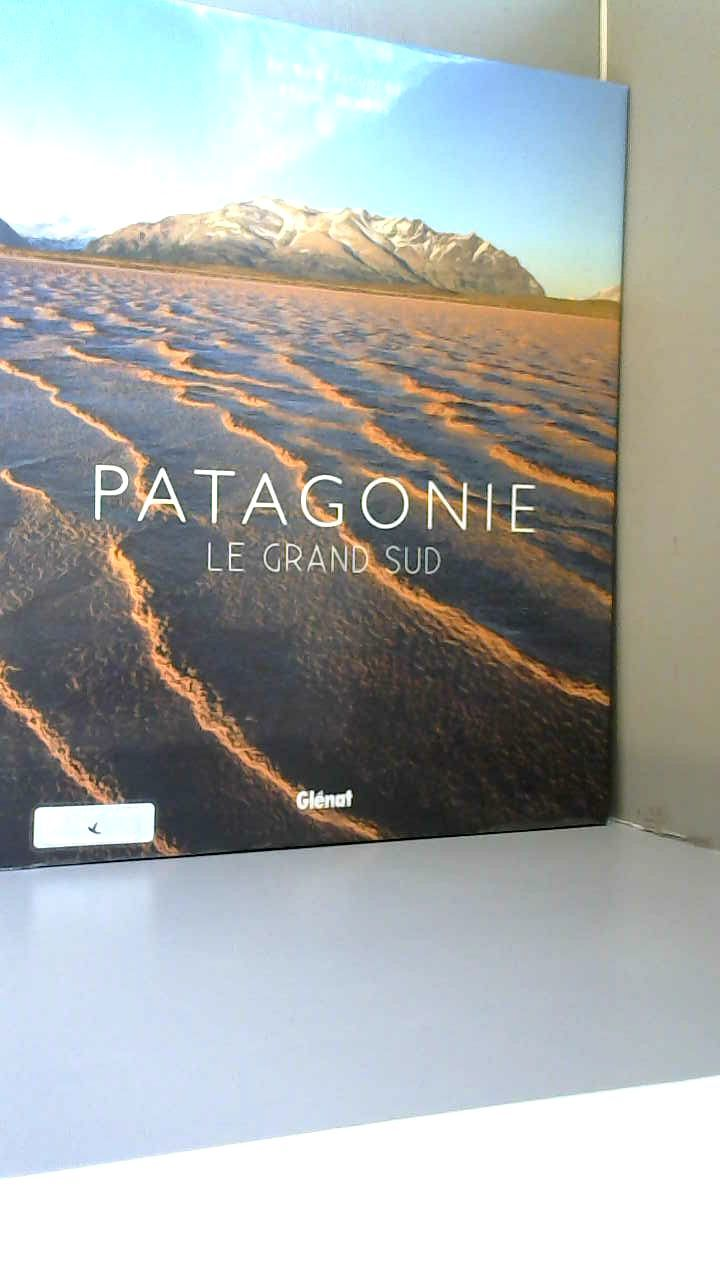book: (0, 0, 669, 904)
